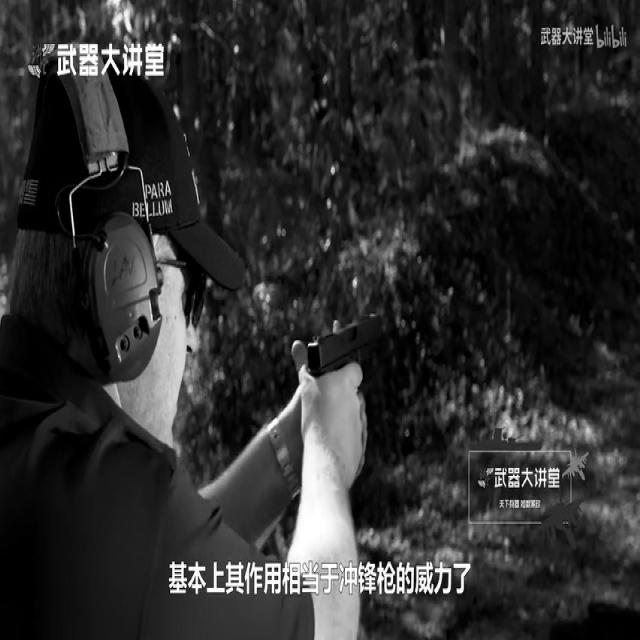Hand-Gun: (284, 245, 490, 554)
